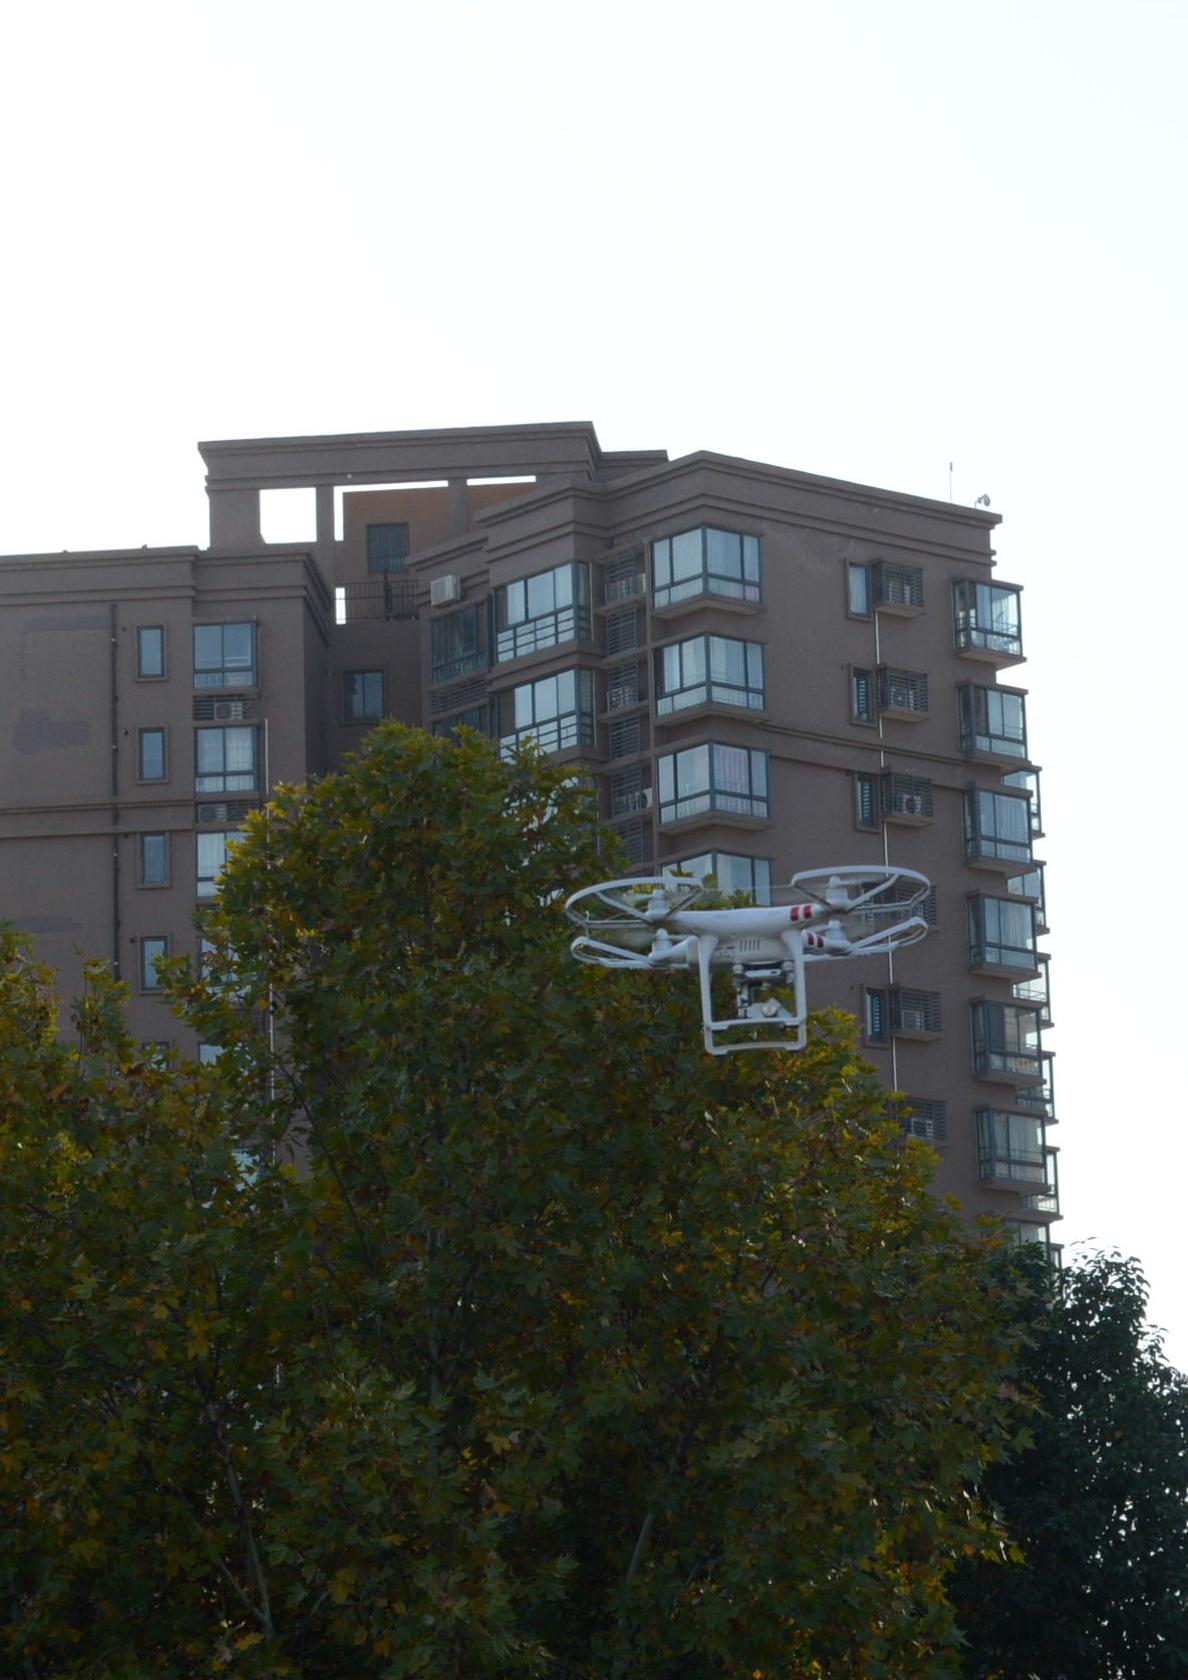DJI: (555, 862, 939, 1057)
